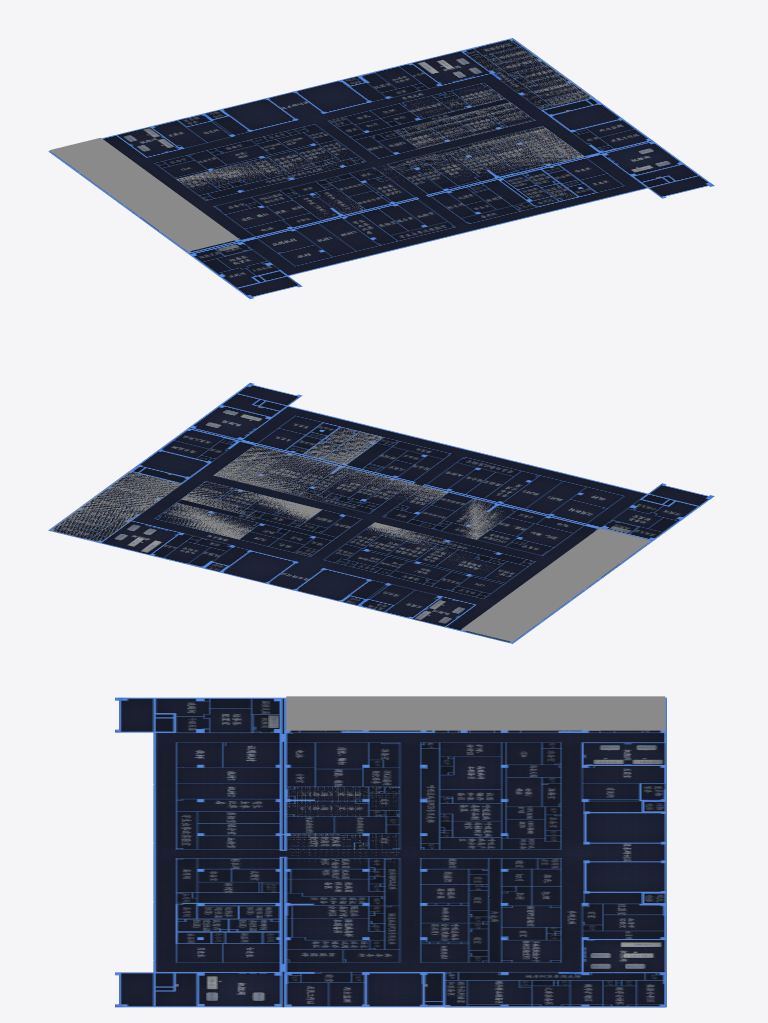
The model's file is 2F_Layout.FBX.
3 views of the same model, one above another, from view 1: azimuth 30°, elevation 25°; view 2: azimuth 150°, elevation 25°; view 3: azimuth 270°, elevation 25° (orthographic). The views are drawn at different scales.
Visible parts, largest first — view 1: 2F_Layout, MAU2-1, MAU2-4, MAU2-6, MAU2-5, MAU2-2; view 2: 2F_Layout, MAU2-1, MAU2-4, MAU2-6, MAU2-5, MAU2-3, MAU2-7, AHU2-1, MAU2-2; view 3: 2F_Layout, MAU2-1.
Part boxes in pixels (x1,y1,x2,y2): 2F_Layout: [48, 38, 714, 298]; MAU2-1: [49, 137, 239, 251]; MAU2-4: [363, 126, 583, 180]; MAU2-6: [465, 39, 593, 108]; MAU2-5: [394, 102, 533, 148]; MAU2-2: [176, 150, 355, 190]; 2F_Layout: [48, 383, 714, 643]; MAU2-1: [461, 528, 650, 641]; MAU2-4: [214, 445, 447, 503]; MAU2-6: [49, 471, 181, 541]; MAU2-5: [181, 482, 321, 522]; MAU2-3: [303, 427, 382, 465]; MAU2-7: [165, 503, 253, 539]; AHU2-1: [458, 498, 505, 539]; MAU2-2: [367, 522, 497, 576]; 2F_Layout: [115, 697, 666, 1007]; MAU2-1: [286, 696, 665, 730].
Size of the model in its own units: 200 by 0.5523 by 200.
